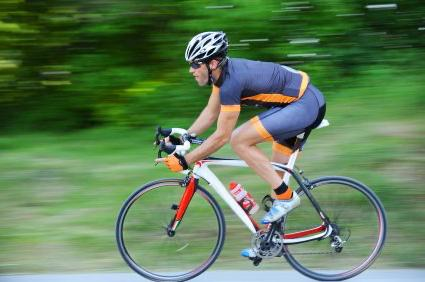With Helmet: (183, 27, 231, 90)
